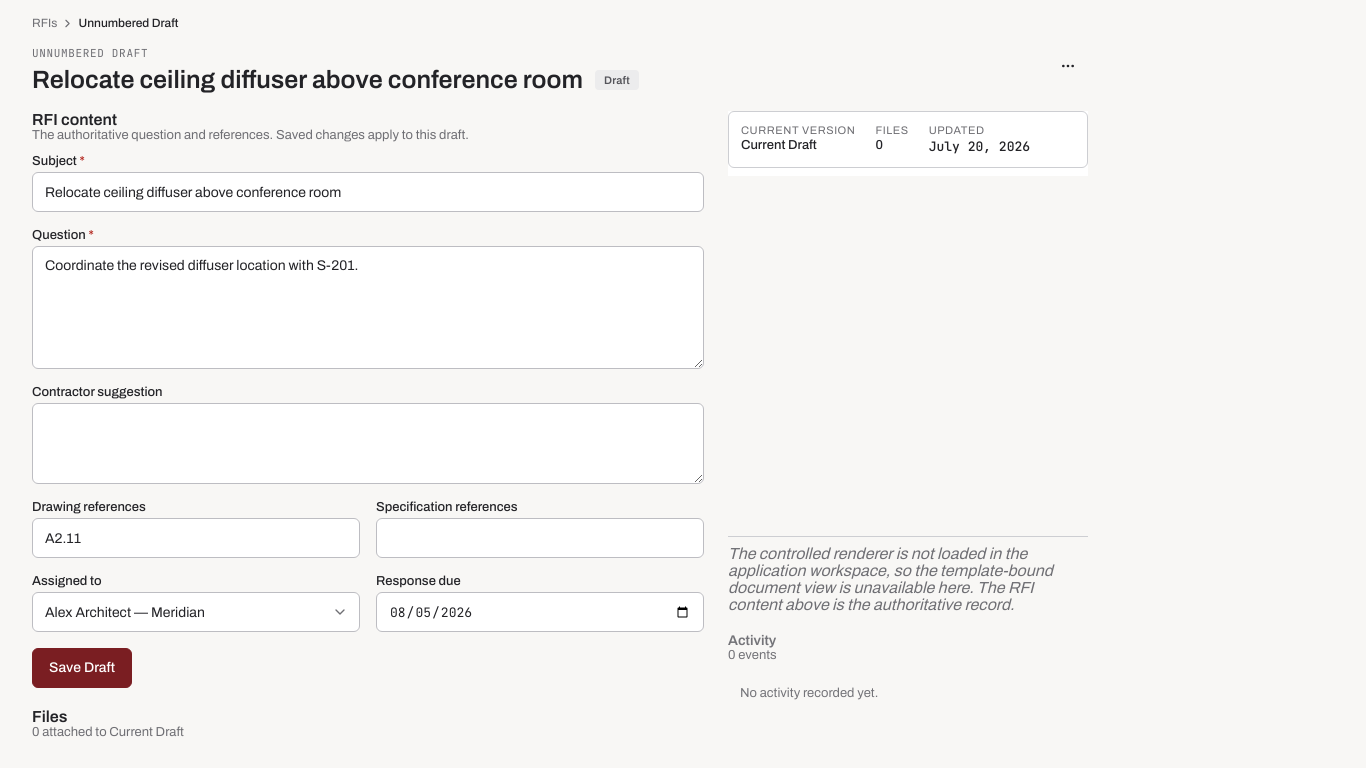
Test case: RFI workspace — content and concurrency › reloads the authoritative values and asks for a retry on a 409 conflict
This screenshot has width=1366, height=768.
Check: the header with class "base-workspace__identity" is shown, box [32,46,1088,95]
Type " updated" into the field labelled "Subject *" at (368, 192), box [32,172,704,212]
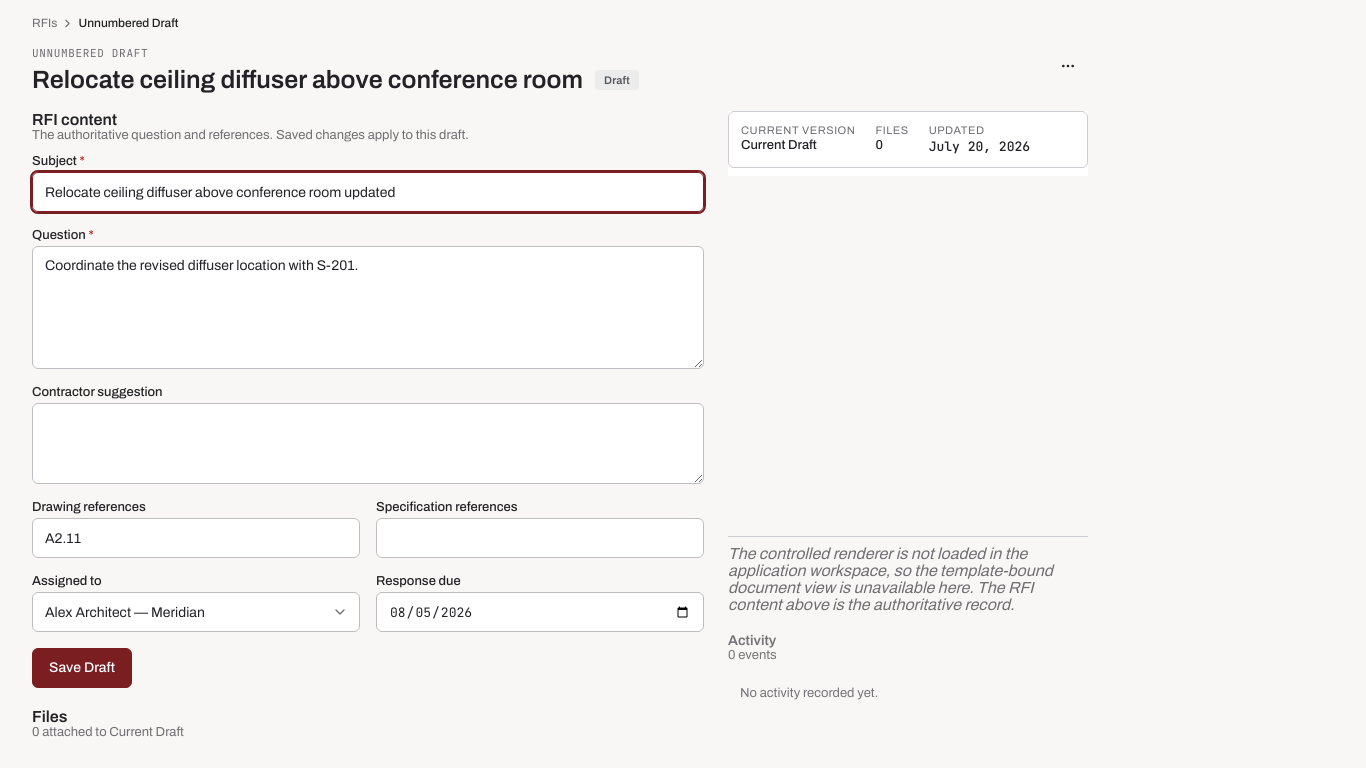
Click the button "Save draft" at (82, 668), box [32,648,132,688]
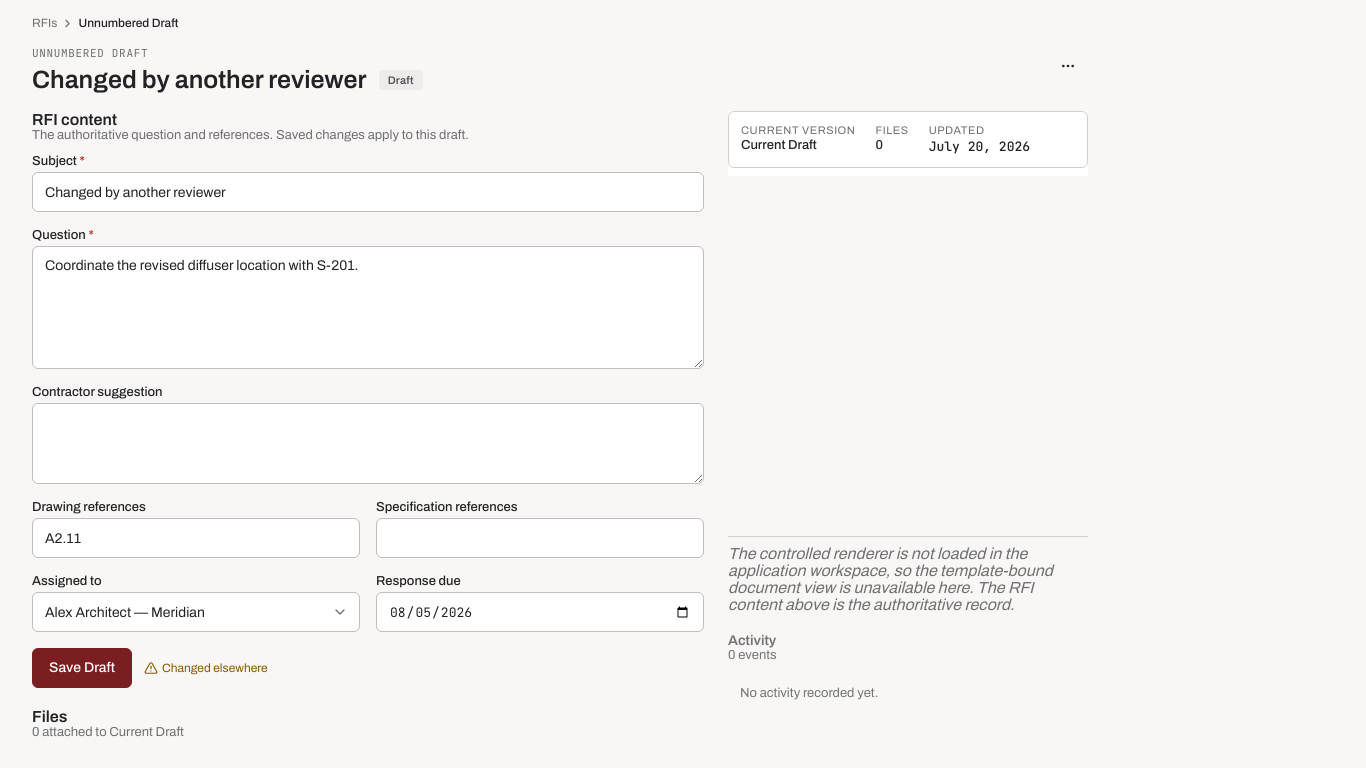
Check: the text "Changed elsewhere" is shown, box [162,661,268,675]
Check: the field labelled "Subject *" holds "Changed by another reviewer", box [32,172,704,212]
